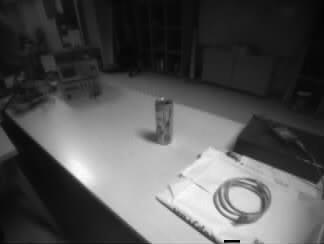Tin can: (155, 97, 172, 145)
